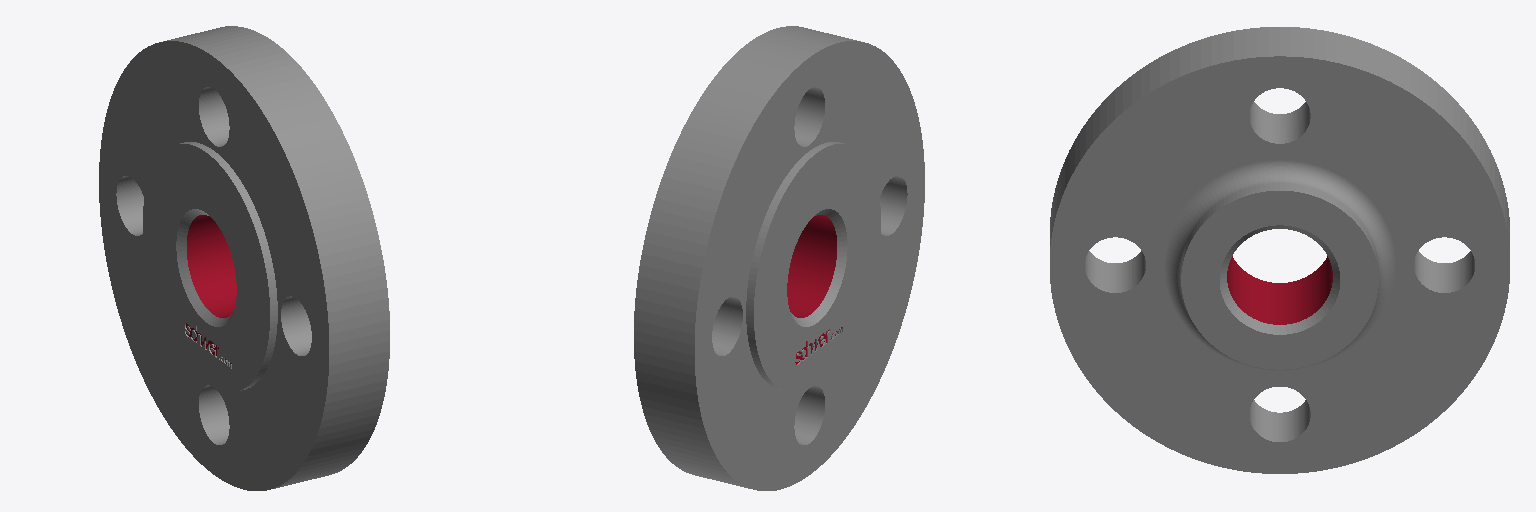
File: flange_scaled_mesh.obj
The picture shows the model from 3 angles: view 1: azimuth 30°, elevation 25°; view 2: azimuth 150°, elevation 25°; view 3: azimuth 270°, elevation 25°; orthographic projection.
Parts seen in each view (by area): view 1: mat0, mat1; view 2: mat0, mat1; view 3: mat0, mat1.
Part boxes in pixels (x1,y1,x2,y2): mat0: (99,26,389,490); mat1: (186,215,236,363); mat0: (634,26,924,490); mat1: (787,215,841,364); mat0: (1050,27,1509,473); mat1: (1227,256,1332,324).
Size of the model in its own units: 0.026 by 0.105 by 0.105.